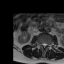CCS_normal: (43, 41, 45, 49)
LFS_stenosis: (47, 42, 49, 47)
LLS_normal: (45, 42, 47, 47)
RFS_stenosis: (40, 42, 41, 47)
RLS_stenosis: (41, 42, 43, 47)
